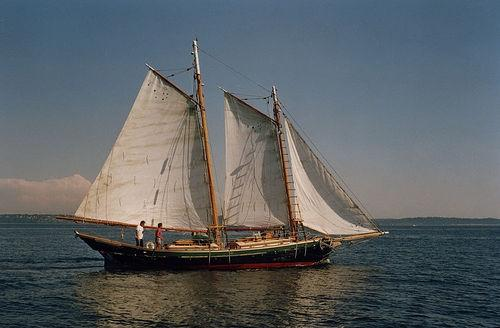Ship: (56, 38, 391, 272)
